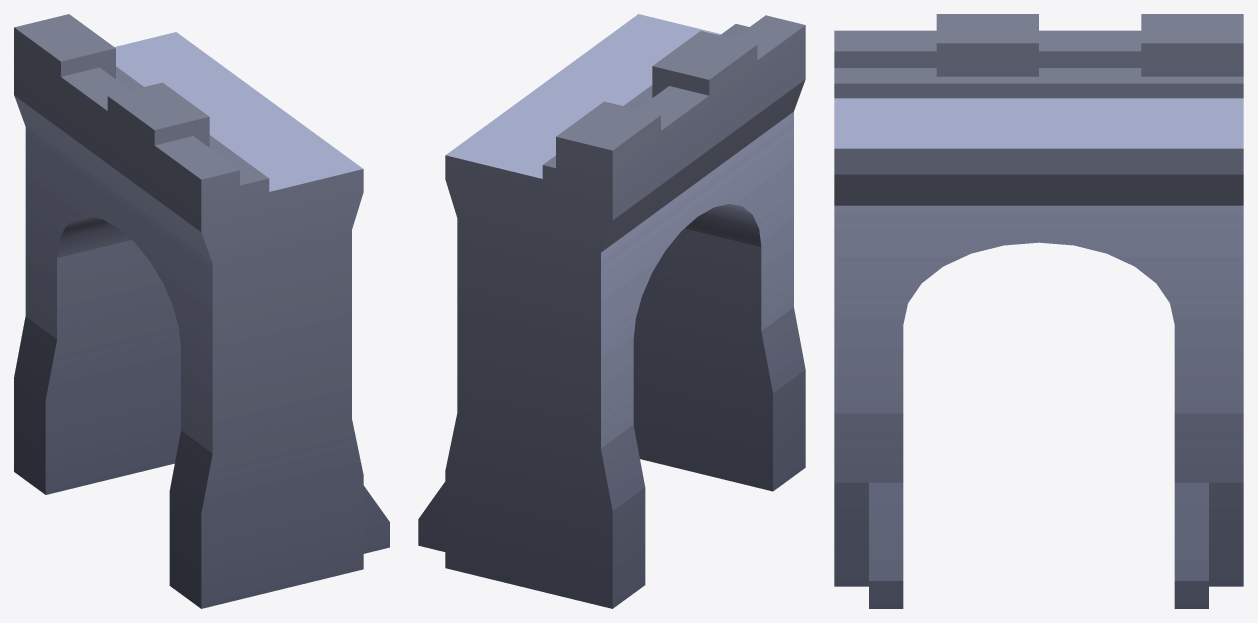
The model's file is wall-narrow-gate.fbx.
The picture shows the model from 3 angles, left to right: view 1: azimuth 30°, elevation 25°; view 2: azimuth 150°, elevation 25°; view 3: azimuth 270°, elevation 25°; orthographic projection. The views are drawn at different scales.
Visible parts, largest first — view 1: wall-narrow-gate; view 2: wall-narrow-gate; view 3: wall-narrow-gate.
Boxes of the visible parts, x1,y1,x2,y2 form: wall-narrow-gate: [14, 14, 389, 608]; wall-narrow-gate: [418, 14, 805, 608]; wall-narrow-gate: [834, 14, 1243, 608].
Bounding box in the file's own units: 0.63 × 1 × 1.31.
